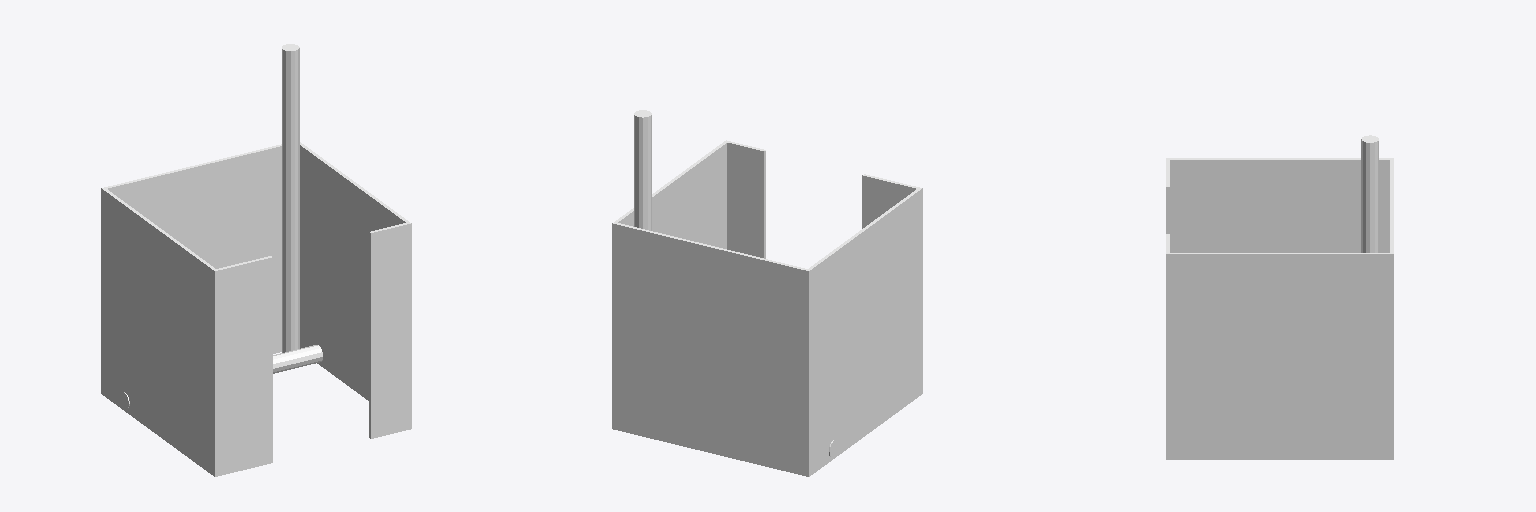
The model's file is toiletRoom.obj.
3 renders of one model, left to right at view 1: azimuth 30°, elevation 25°; view 2: azimuth 150°, elevation 25°; view 3: azimuth 270°, elevation 25°, orthographic.
Visible parts, largest first — view 1: toiletRoom; view 2: toiletRoom; view 3: toiletRoom.
Part boxes in pixels (x1,y1,x2,y2): toiletRoom: (101,44,411,476); toiletRoom: (612,110,922,476); toiletRoom: (1166,135,1393,459).
Size of the model in its own units: 201 by 303 by 200.